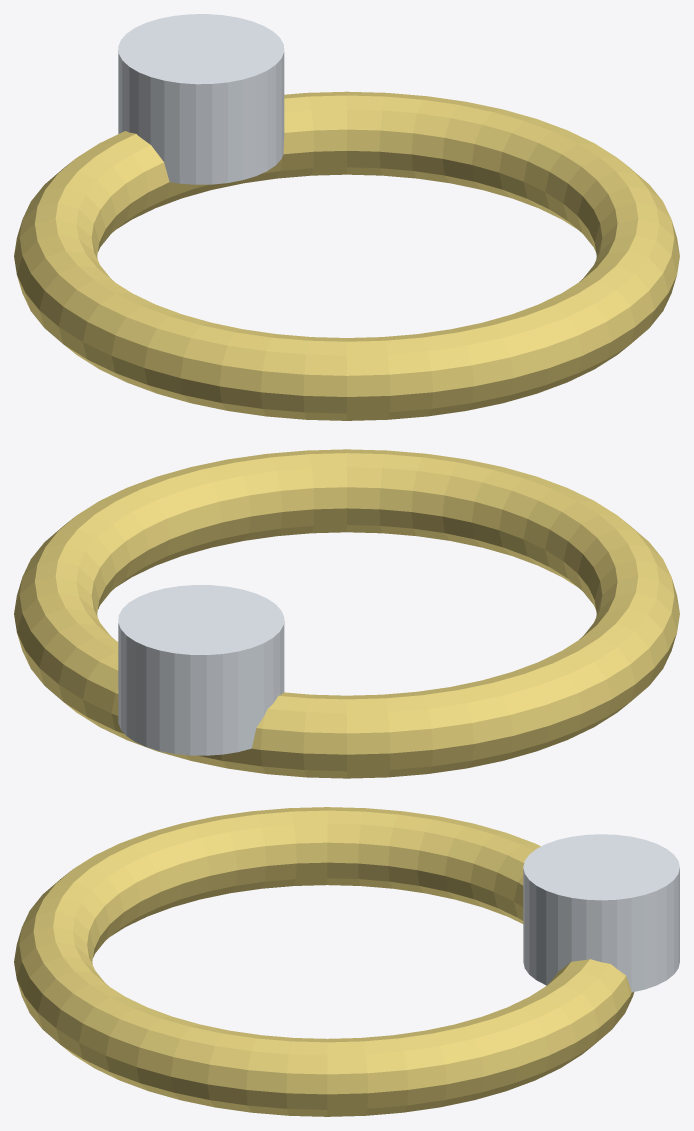
File: ring_test.glb
3 views of the same model, one above another, from view 1: azimuth 30°, elevation 25°; view 2: azimuth 150°, elevation 25°; view 3: azimuth 270°, elevation 25° (orthographic). The views are drawn at different scales.
Parts seen in each view (by area): view 1: RingBand, Stone; view 2: RingBand, Stone; view 3: RingBand, Stone.
Part boxes in pixels (<box>): RingBand: <box>14,91,679,420</box>; Stone: <box>118,14,284,184</box>; RingBand: <box>14,449,679,778</box>; Stone: <box>118,585,284,755</box>; RingBand: <box>14,807,634,1116</box>; Stone: <box>523,834,679,992</box>.
Size of the model in its own units: 0.024 by 0.0055 by 0.0255.
